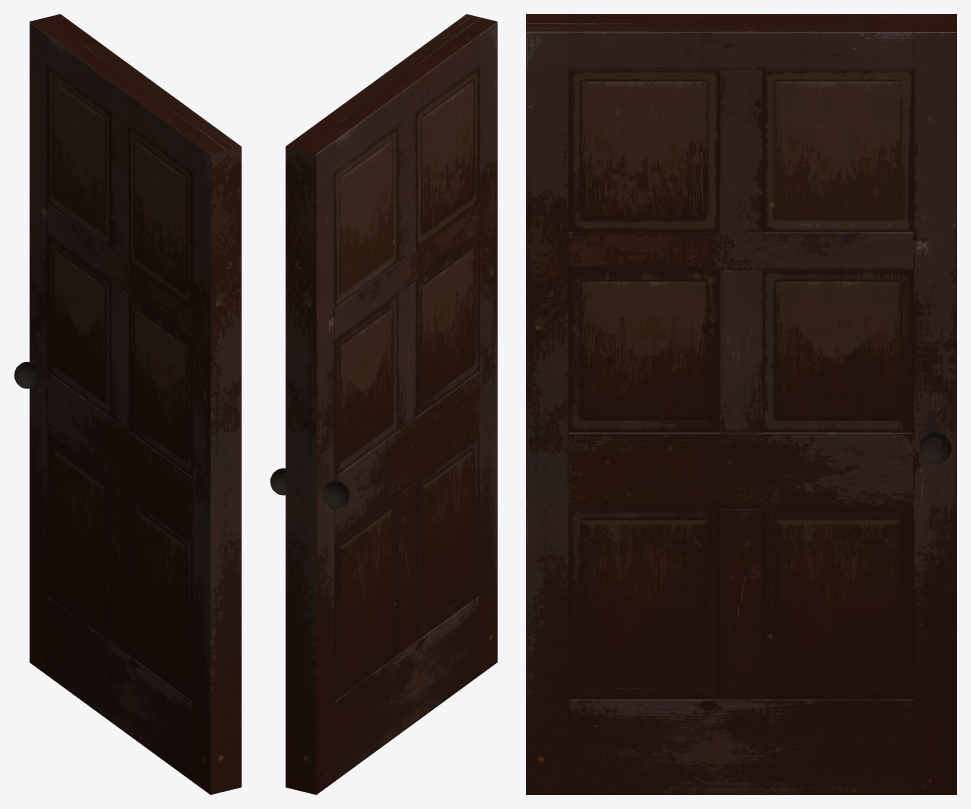
The model's file is door_m1.fbx.
3 views of the same model, side by side, from view 1: azimuth 30°, elevation 25°; view 2: azimuth 150°, elevation 25°; view 3: azimuth 270°, elevation 25° (orthographic). The views are drawn at different scales.
Visible parts, largest first — view 1: Door; view 2: Door; view 3: Door.
Boxes of the visible parts, box(x1,y1,x2,y2) form: Door: box(14, 14, 241, 794); Door: box(270, 14, 497, 794); Door: box(526, 14, 956, 794).
Bounding box in the file's own units: 0.4532 × 1.88 × 3.67.
